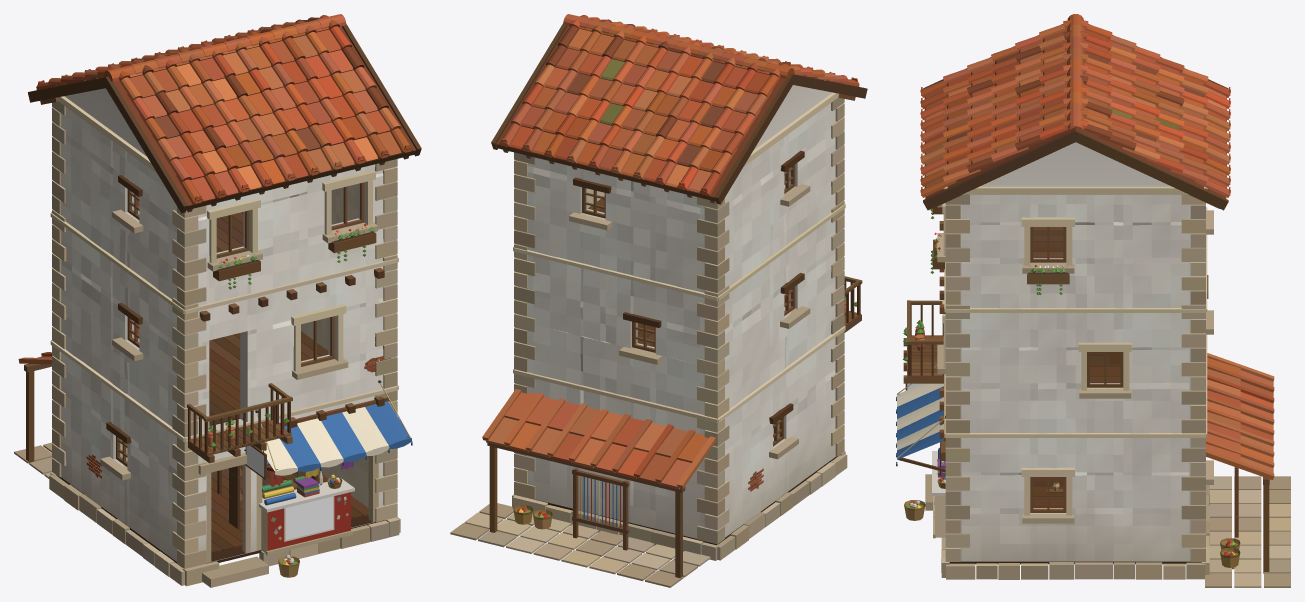
Rendered from artisan_0_3.glb.
The picture shows the model from 3 angles, left to right: view 1: azimuth 30°, elevation 25°; view 2: azimuth 150°, elevation 25°; view 3: azimuth 270°, elevation 25°; orthographic projection. The views are drawn at different scales.
Parts seen in each view (by area): view 1: House, Walls, Rooms; view 2: House, Walls; view 3: House, Walls, Rooms.
Part boxes in pixels (x1,y1,x2,y2): House: (14, 14, 421, 587); Walls: (60, 88, 394, 561); Rooms: (126, 184, 368, 554); House: (450, 14, 867, 587); Walls: (517, 85, 836, 538); House: (896, 14, 1290, 587); Walls: (948, 142, 1203, 561); Rooms: (1033, 227, 1120, 507).
Bounding box in the file's own units: 4.28 × 7.68 × 6.01.
7 materials, 7 textured.
